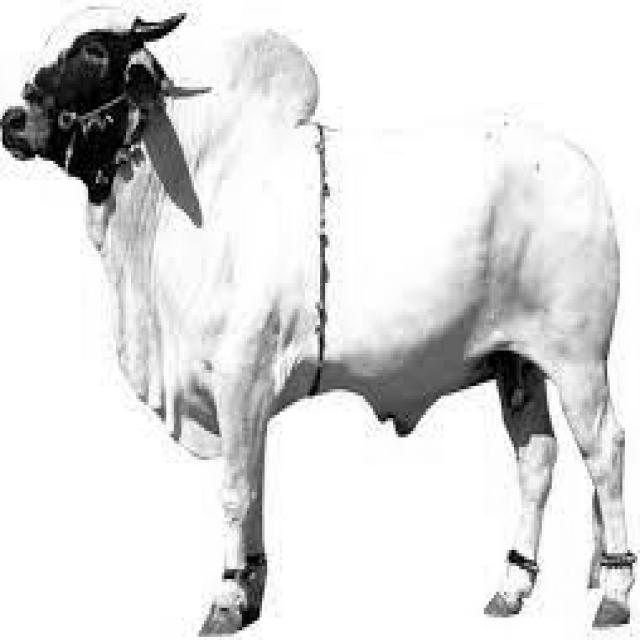Cow: (0, 3, 637, 636)
